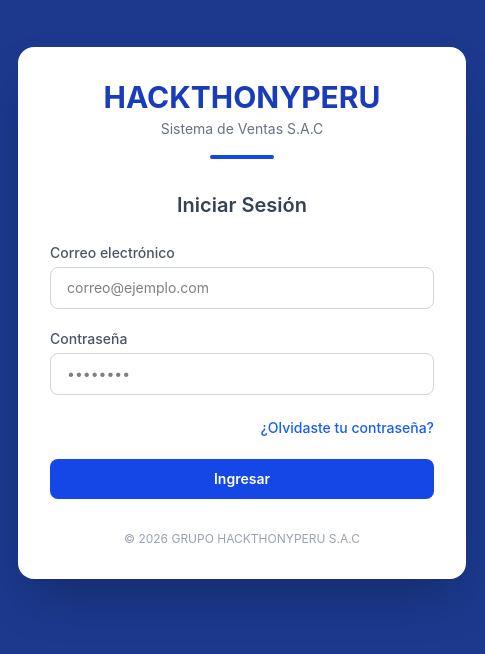
it: Componente Login - Pruebas Unitarias › Debe mostrar mensaje de error con credenciales incorrectas
Type "mal@correo.com" into the field with placeholder "correo@ejemplo.com" at (242, 288), box [50,267,434,309]
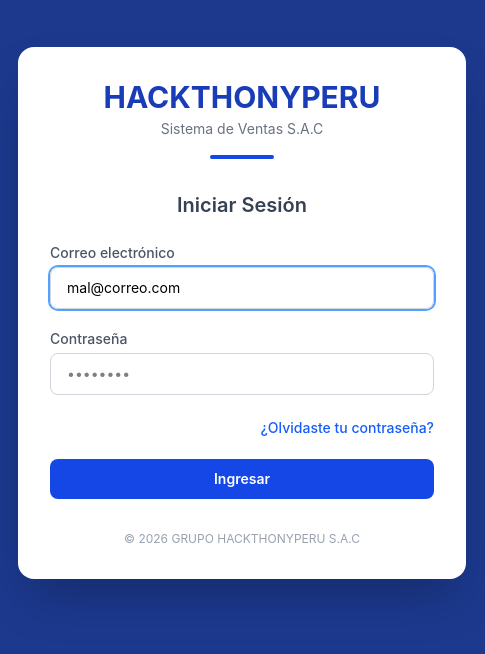
Type "wrongpass" into the password field with placeholder "••••••••" at (242, 374), box [50,353,434,395]
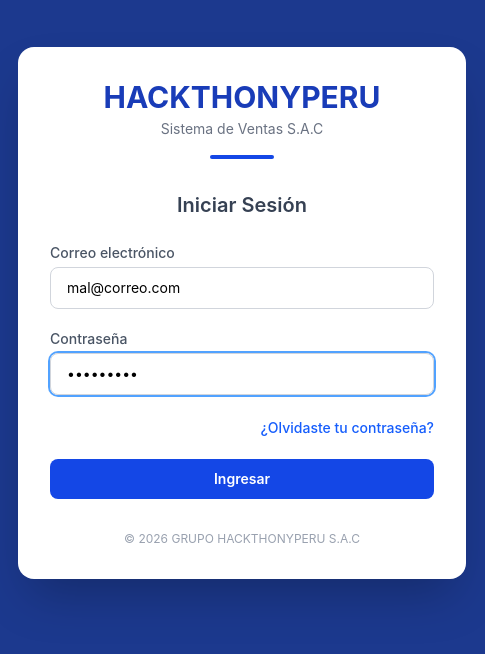
Click the button "Ingresar" at (242, 479), box [50,459,434,499]
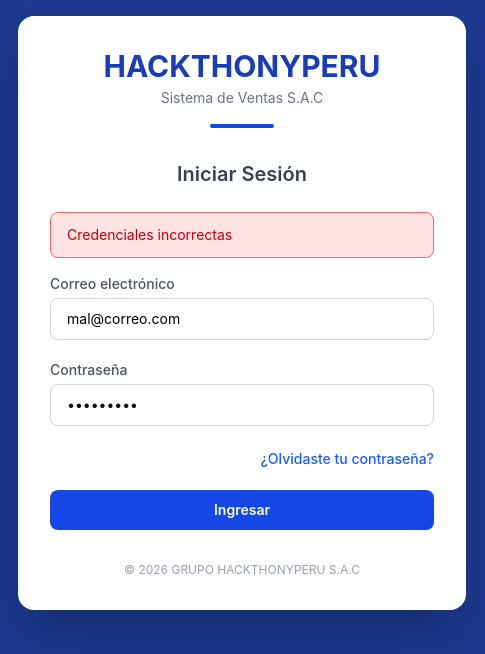
Expected: the text "Credenciales incorrectas" is shown, [50,212,434,258]
